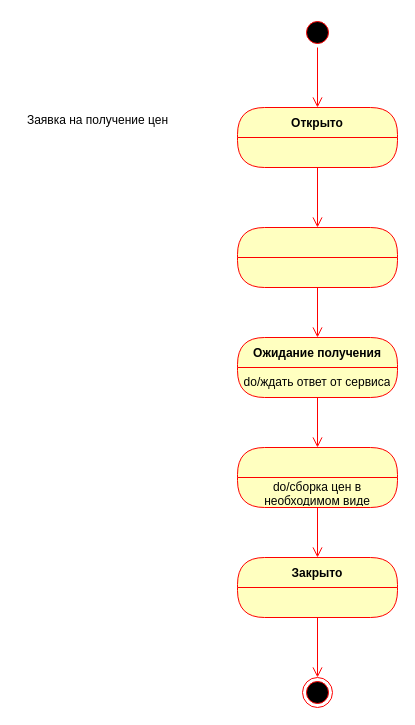
Some shapes in this 415 by 725 pixel diagram are drawn without their labels. The box of each missing label's shape, as (x1, y1, x2, y2) in pixels:
Запрос к сервису: (236, 226, 398, 288)
Формирование цен: (236, 446, 398, 508)
